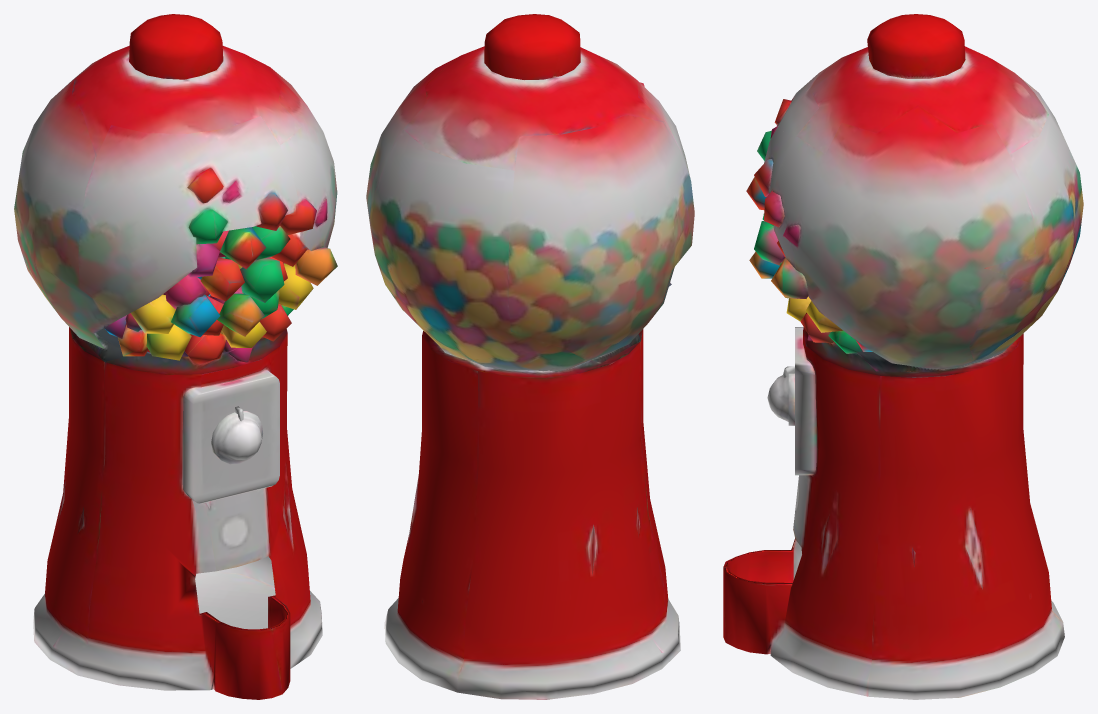
The model's file is gumball.glb.
3 views of the same model, side by side, from view 1: azimuth 30°, elevation 25°; view 2: azimuth 150°, elevation 25°; view 3: azimuth 270°, elevation 25° (orthographic).
Size of the model in its own units: 0.4644 by 0.9512 by 0.5063.
1 material, 1 textured.
